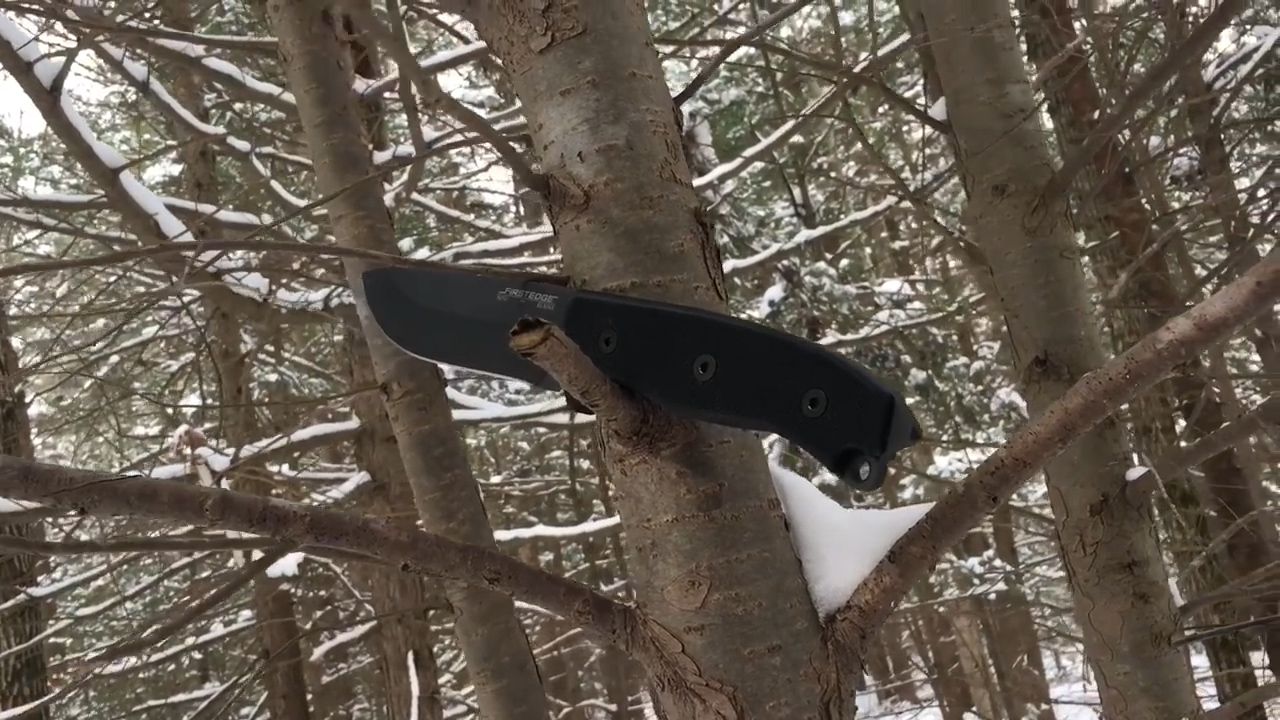knife: (343, 255, 738, 435)
